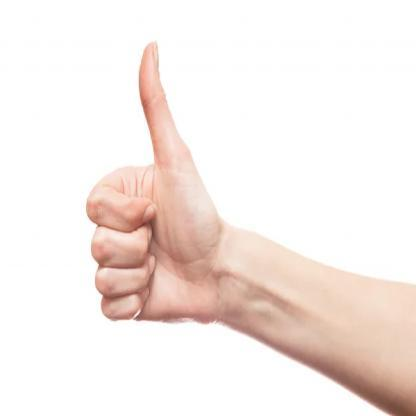thumb_up: (84, 35, 214, 332)
